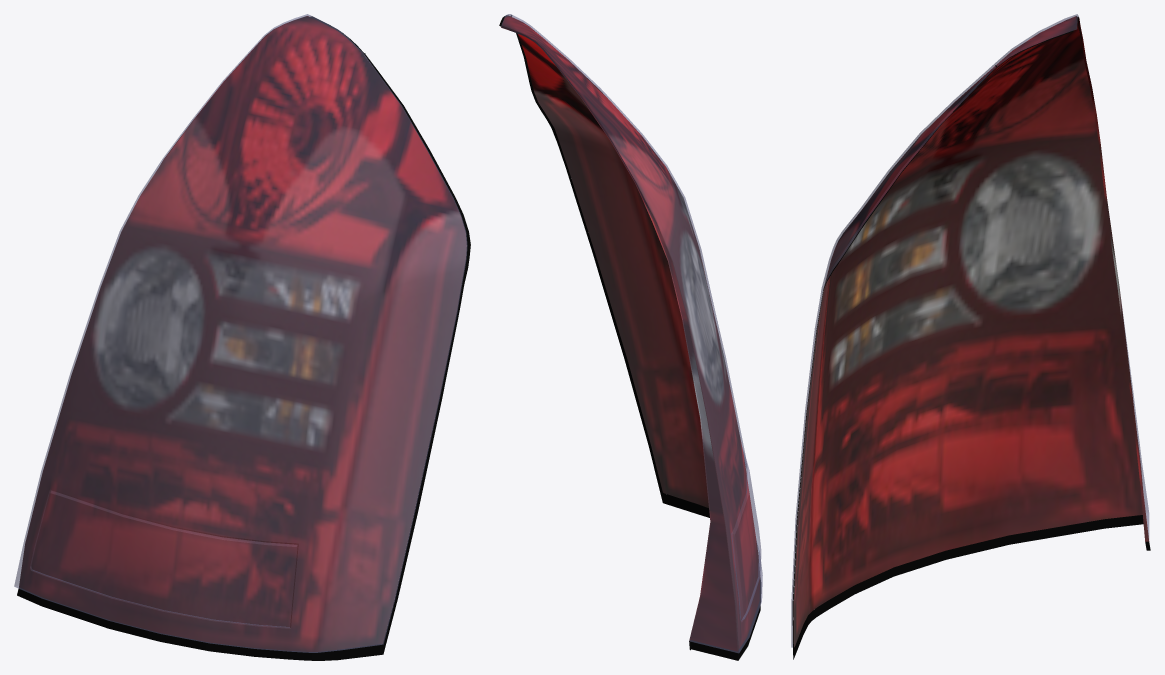
The picture shows the model from 3 angles, left to right: view 1: azimuth 30°, elevation 25°; view 2: azimuth 150°, elevation 25°; view 3: azimuth 270°, elevation 25°; orthographic projection. The views are drawn at different scales.
Parts seen in each view (by area): view 1: M261_541C_R_1_DTaSI_M261_541C_R, M261_541C_R_M261_541C_R_2_N, M261_541C_R_M261_541C_R_3_D; view 2: M261_541C_R_M261_541C_R_2_N, M261_541C_R_1_DTaSI_M261_541C_R, M261_541C_R_M261_541C_R_3_D; view 3: M261_541C_R_M261_541C_R_2_N, M261_541C_R_1_DTaSI_M261_541C_R, M261_541C_R_M261_541C_R_3_D.
Part boxes in pixels (<box>): M261_541C_R_1_DTaSI_M261_541C_R: <box>14,14,467,652</box>; M261_541C_R_M261_541C_R_2_N: <box>19,16,466,651</box>; M261_541C_R_M261_541C_R_3_D: <box>17,16,470,660</box>; M261_541C_R_M261_541C_R_2_N: <box>501,16,759,651</box>; M261_541C_R_1_DTaSI_M261_541C_R: <box>501,14,762,653</box>; M261_541C_R_M261_541C_R_3_D: <box>499,15,760,660</box>; M261_541C_R_M261_541C_R_2_N: <box>793,16,1149,647</box>; M261_541C_R_1_DTaSI_M261_541C_R: <box>791,14,1149,647</box>; M261_541C_R_M261_541C_R_3_D: <box>792,30,1150,659</box>.
Bounding box in the file's own units: 25.08 × 39.87 × 19.73.
